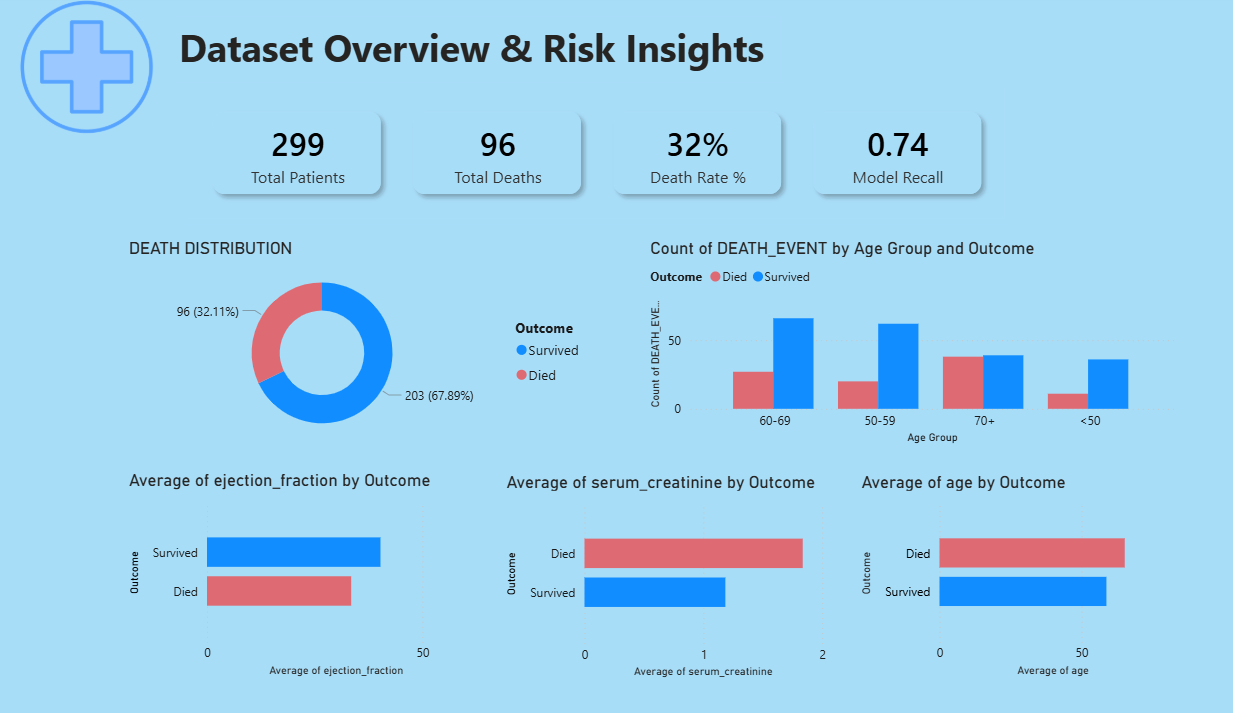

Layout of this report page (visuals, bound fields, positions):
{"tool":"powerbi","page":{"name":"EXECUTIVE SUMMARY","canvas":[1280,720],"ordinal":1},"visuals":[{"type":"cardVisual","fields":{"Data":["measure_table.Total Patients","measure_table.Total Deaths","measure_table.Death Rate %","measure_table.Model Recall"]},"box":[194.1,83.3,823.5,140.6],"z":0},{"type":"donutChart","title":"DEATH DISTRIBUTION","fields":{"Category":["heart_failure_clinical_records_dataset.Outcome"],"Y":["CountNonNull(heart_failure_clinical_records_dataset.Outcome)"]},"box":[134.3,237.6,471.5,210.2],"z":1000},{"type":"clusteredColumnChart","fields":{"Category":["heart_failure_clinical_records_dataset.Age Group"],"Series":["heart_failure_clinical_records_dataset.Outcome"],"Y":["CountNonNull(heart_failure_clinical_records_dataset.DEATH_EVENT)"]},"box":[653.1,237.6,531.2,210.2],"z":2000},{"type":"textbox","box":[184.1,17.4,603.3,65.9],"z":3000},{"type":"image","box":[0,0,194.1,135.6],"z":4000},{"type":"clusteredBarChart","fields":{"Category":["heart_failure_clinical_records_dataset.Outcome"],"Y":["Avg(heart_failure_clinical_records_dataset.ejection_fraction)"]},"box":[134.3,469,352,210.2],"z":5000},{"type":"clusteredBarChart","fields":{"Category":["heart_failure_clinical_records_dataset.Outcome"],"Y":["Avg(heart_failure_clinical_records_dataset.serum_creatinine)"]},"box":[510,470.2,328.4,210.2],"z":6000},{"type":"clusteredBarChart","fields":{"Category":["heart_failure_clinical_records_dataset.Outcome"],"Y":["Avg(heart_failure_clinical_records_dataset.age)"]},"box":[863.3,470.2,320.9,209],"z":7000}]}

Visuals, with their boxes in screenshot pixels (x1, y1, x2, y2), scaled from the page's 1280x720 canvas onto the 1233x713 screenshot:
cardVisual - measure_table.Total Patients x measure_table.Total Deaths: 187, 82, 980, 222
"DEATH DISTRIBUTION" donutChart: 129, 235, 584, 443
clusteredColumnChart - heart_failure_clinical_records_dataset.Age Group x heart_failure_clinical_records_dataset.Outcome: 629, 235, 1141, 443
textbox: 177, 17, 758, 82
image: 0, 0, 187, 134
clusteredBarChart - heart_failure_clinical_records_dataset.Outcome x Avg(heart_failure_clinical_records_dataset.ejection_fraction): 129, 464, 468, 673
clusteredBarChart - heart_failure_clinical_records_dataset.Outcome x Avg(heart_failure_clinical_records_dataset.serum_creatinine): 491, 466, 808, 674
clusteredBarChart - heart_failure_clinical_records_dataset.Outcome x Avg(heart_failure_clinical_records_dataset.age): 832, 466, 1141, 673
